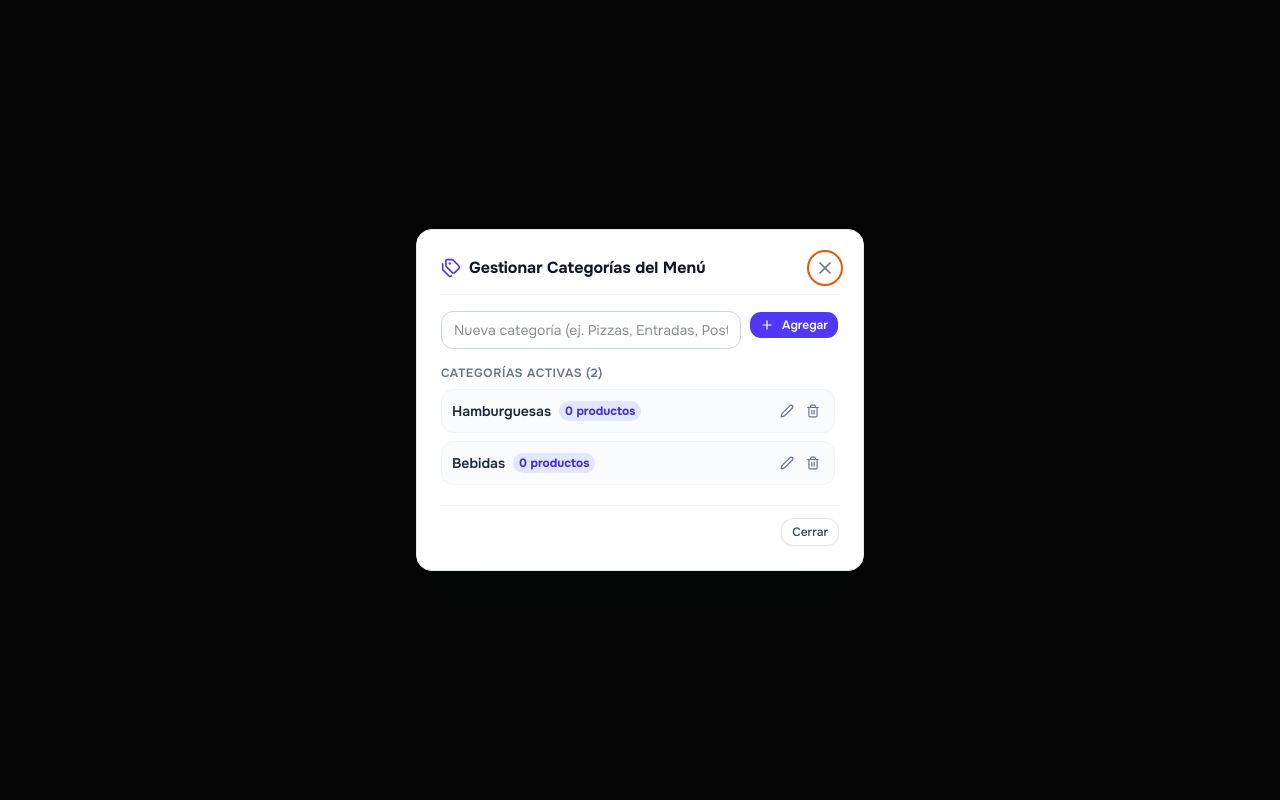
CategoryModal › renaming a category › saves on Enter exactly once, same as the Guardar button
Click the button titled "Renombrar categoría" at (787, 411), box top-left (776, 400), bottom-right (798, 422)
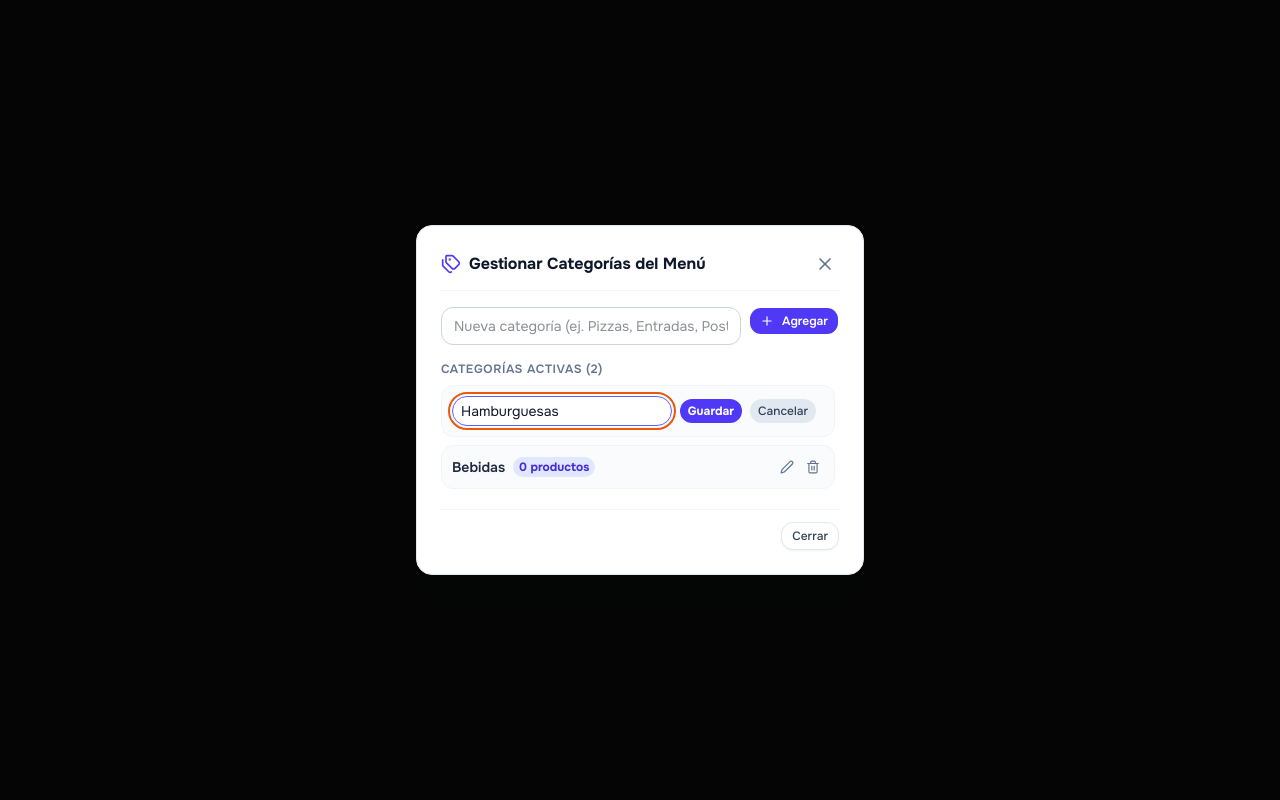
Replace the text in the field showing "Hamburguesas" with "Burgers" at (562, 411), box top-left (452, 396), bottom-right (672, 426)
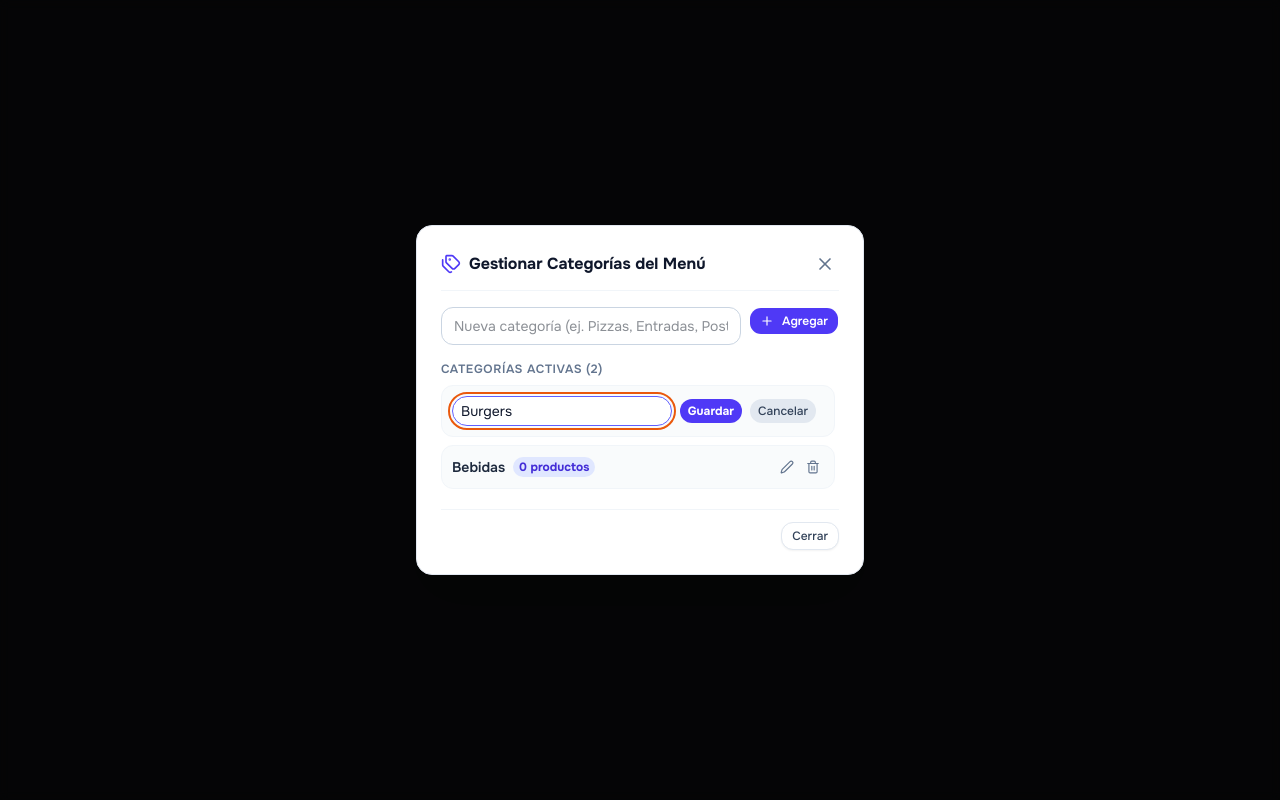
Press Enter in the field showing "Hamburguesas", box top-left (452, 396), bottom-right (672, 426)
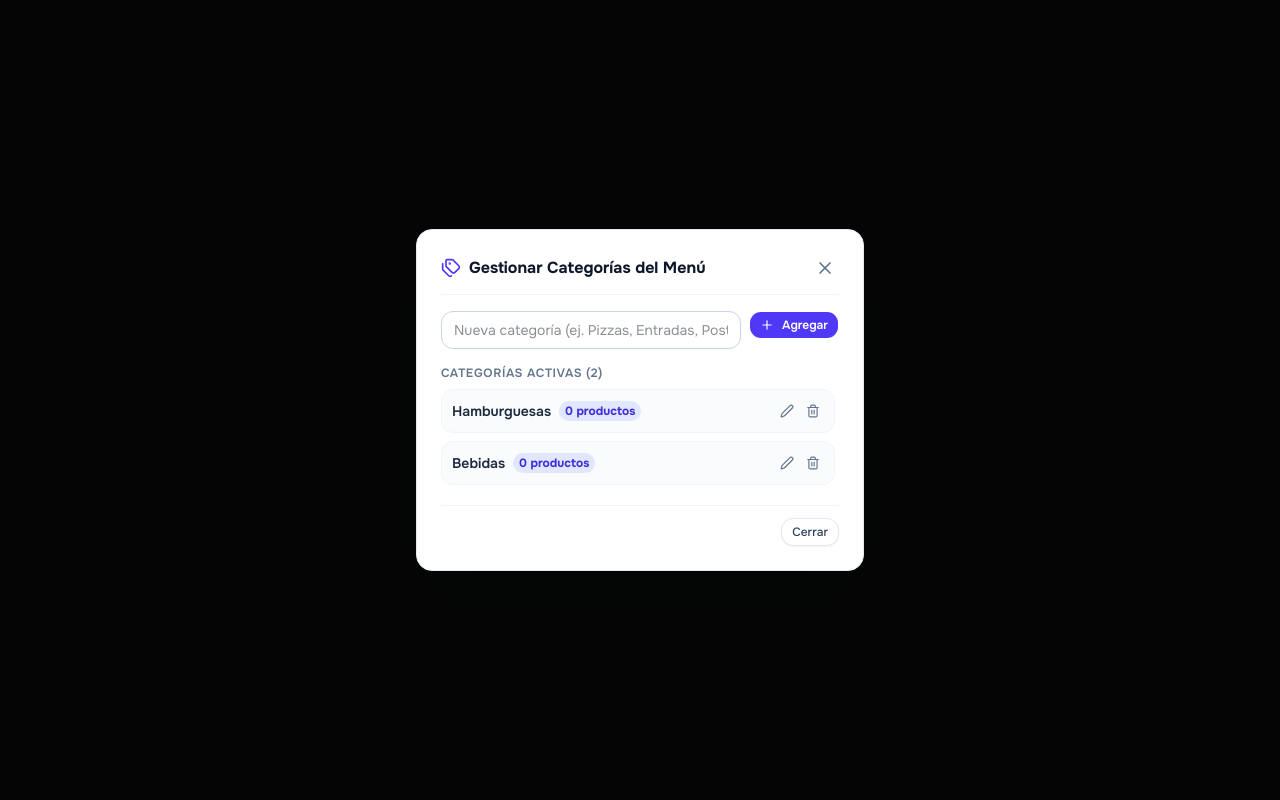
Expected: the button "Guardar" is gone
